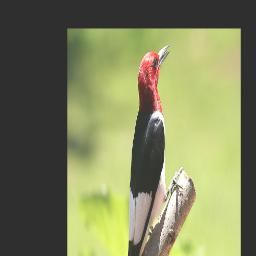Woodpecker: (120, 40, 174, 256)
